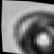correct: (10, 4, 54, 54)
